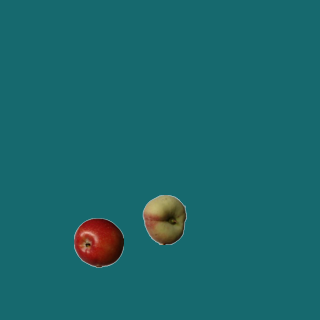Apple Braeburn: (73, 217, 123, 267)
Peach Flat: (139, 194, 189, 244)
